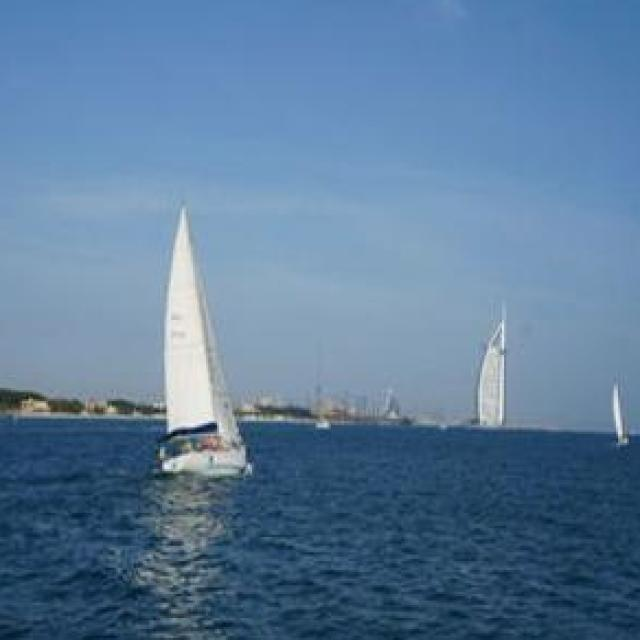sailboat: (155, 201, 251, 478), (466, 298, 520, 434), (609, 373, 632, 447)
